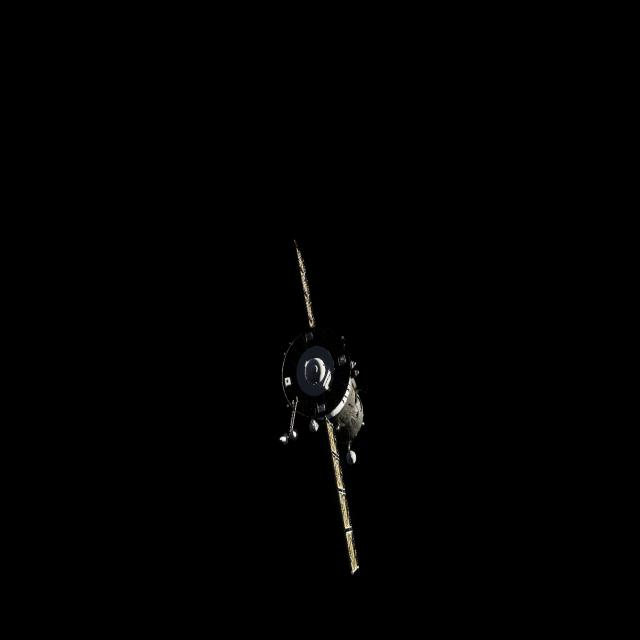Satellites revolving around earth: (277, 237, 367, 577)
